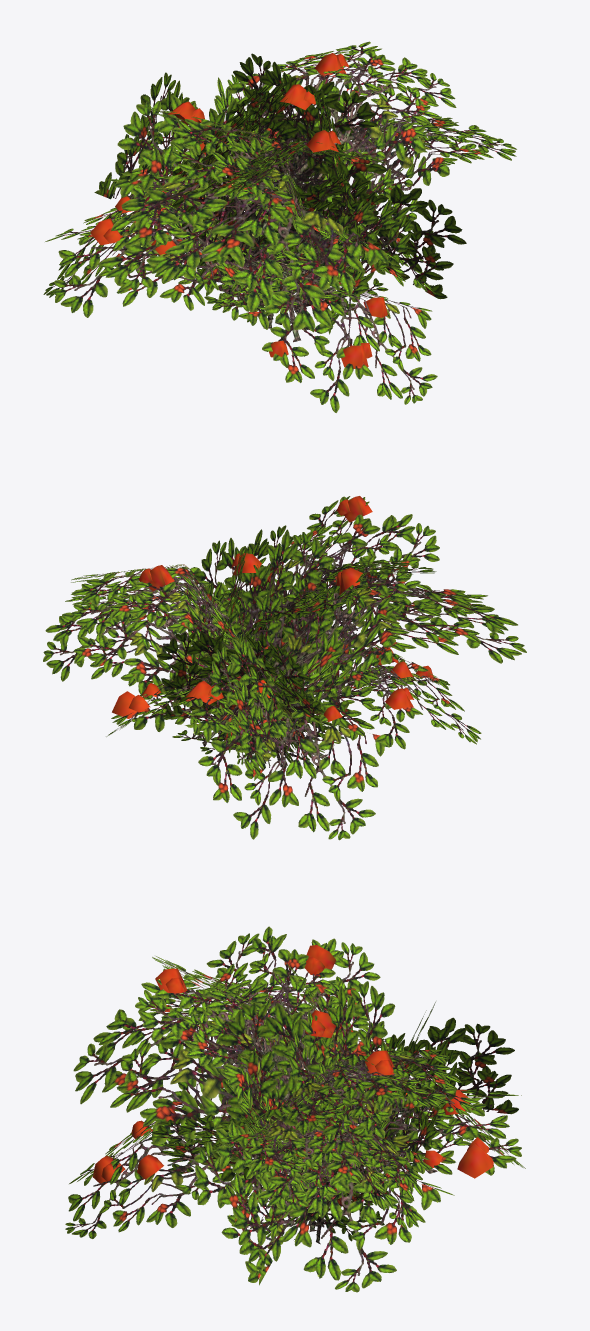
Rendered from fruit_bush_v2.glb.
The picture shows the model from 3 angles, top to bottom: view 1: azimuth 30°, elevation 25°; view 2: azimuth 150°, elevation 25°; view 3: azimuth 270°, elevation 25°; orthographic projection. The views are drawn at different scales.
Visible parts, largest first — view 1: berry_bush; view 2: berry_bush; view 3: berry_bush.
Part boxes in pixels (left/top/right/bottom): berry_bush: left=43, top=41, right=516, bottom=412; berry_bush: left=43, top=496, right=526, bottom=840; berry_bush: left=65, top=926, right=525, bottom=1292.
Bounding box in the file's own units: 2.4 × 1.19 × 2.14.
Materials: 1 (1 with a texture image).
